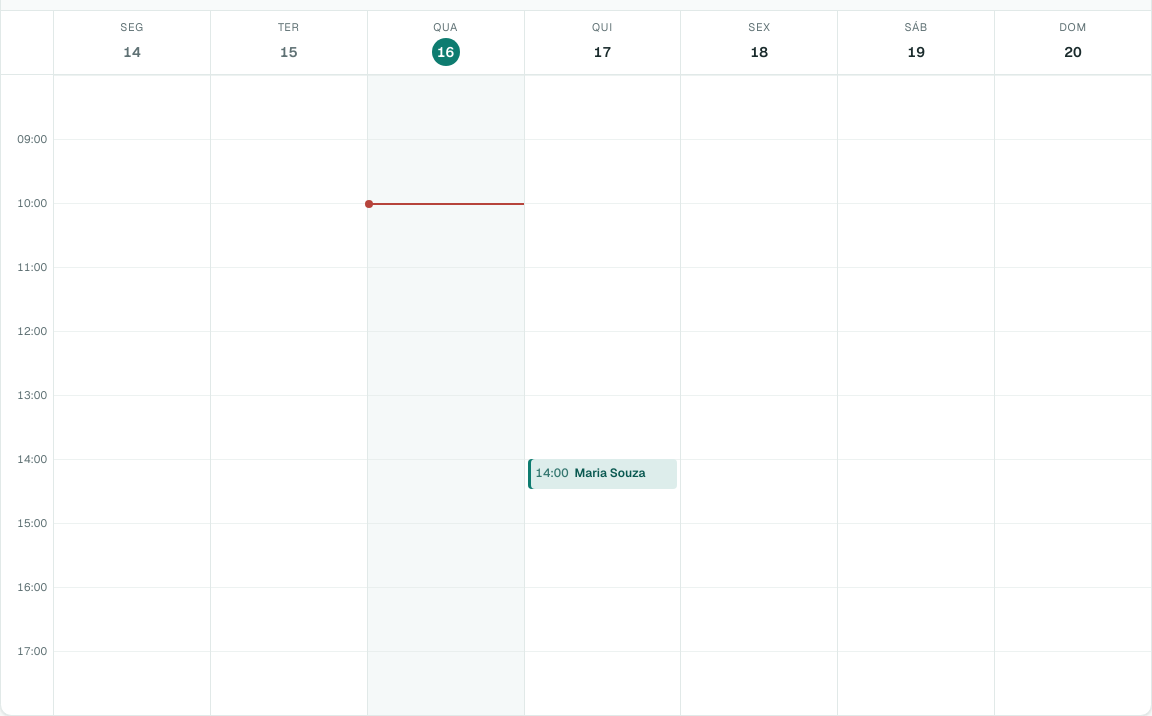
Test: AgendaPage — filtros e detalhe › clicar num agendamento da grade abre o painel com os detalhes
(page scrolled)
Click the button with aria-label "14:00 – 14:30 · Maria Souza · Limpeza" at (603, 474), box [528,459,678,489]
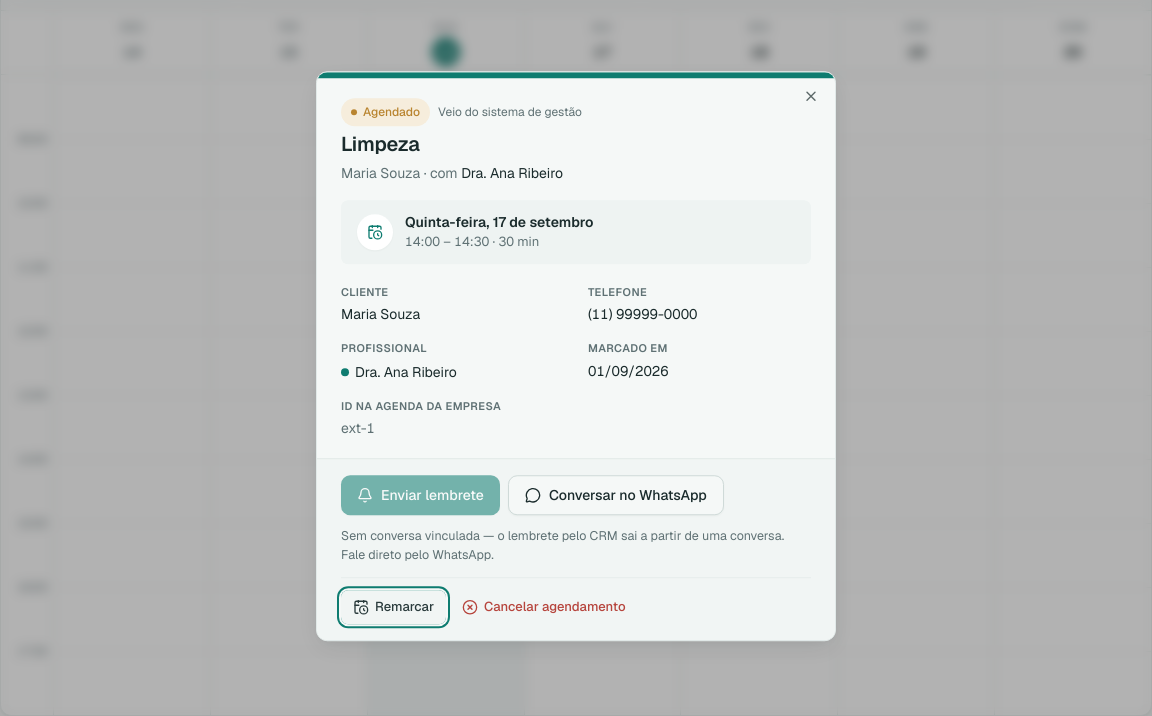
Now the heading "Limpeza" is shown, box [341,131,420,157]
Now the dialog shows "Maria Souza", box [341,164,420,182]
Now the dialog shows "Dra. Ana Ribeiro", box [461,164,563,182]
